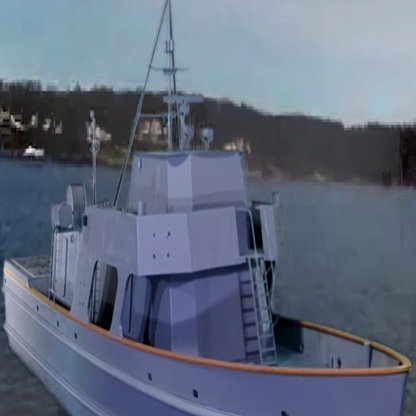YP689: (5, 0, 411, 416)
